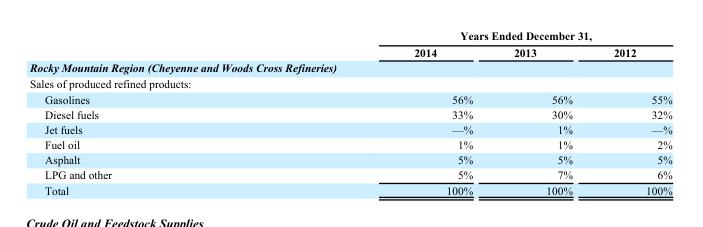table: (28, 29, 671, 195)
table column: (28, 29, 262, 195), (262, 29, 492, 195), (492, 29, 592, 195), (592, 29, 671, 195)
table column header: (28, 29, 671, 59)
table projected row header: (28, 59, 671, 75), (28, 75, 671, 91)
table row: (28, 43, 671, 59), (28, 59, 671, 75), (28, 75, 671, 91), (28, 166, 671, 182), (28, 91, 671, 106), (28, 106, 671, 121), (28, 121, 671, 136), (28, 136, 671, 151), (28, 151, 671, 166), (28, 29, 671, 43), (28, 182, 671, 195)
table spanning cell: (262, 29, 671, 43)
